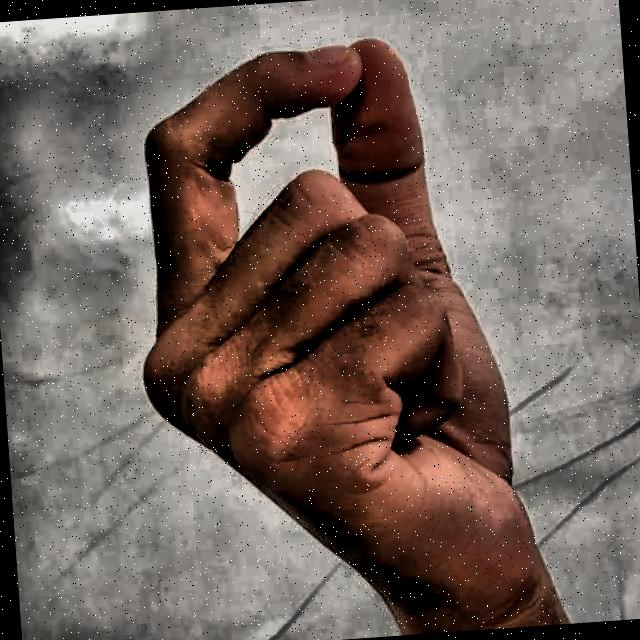Gha: (85, 19, 586, 640)
